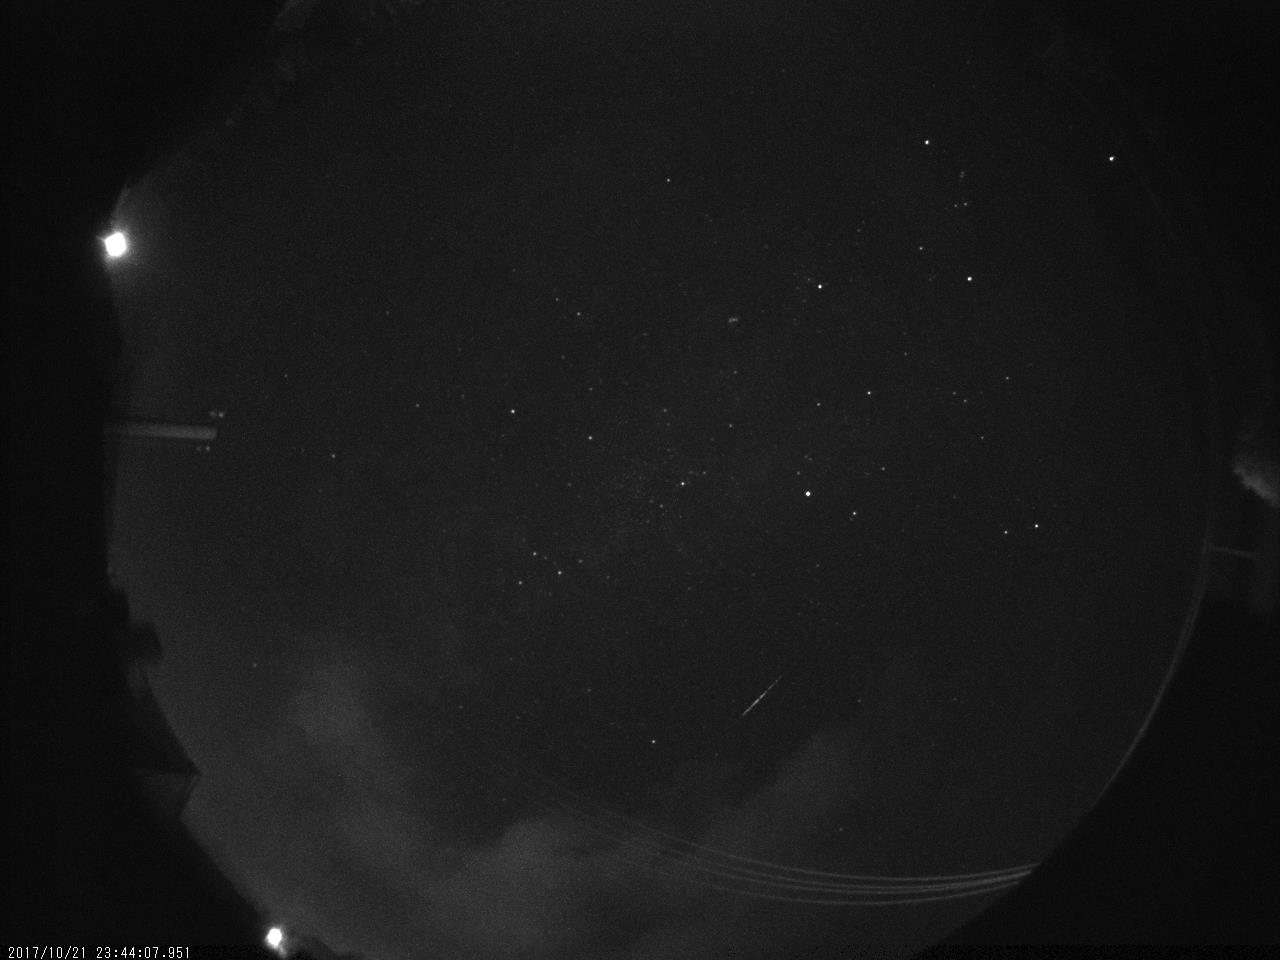meteor: (738, 669, 782, 725)
